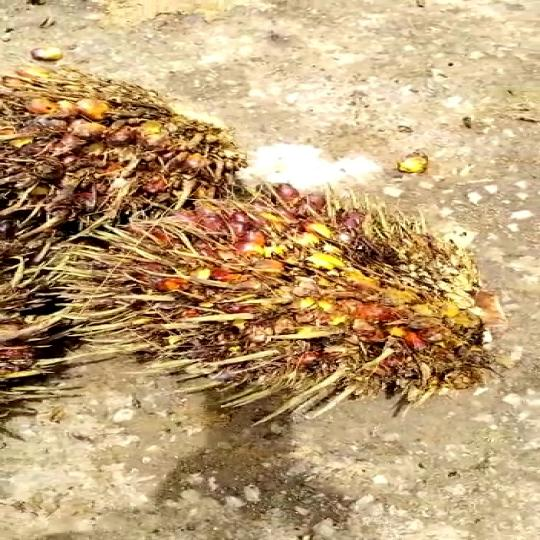masak: (48, 182, 535, 415), (0, 58, 233, 223)
